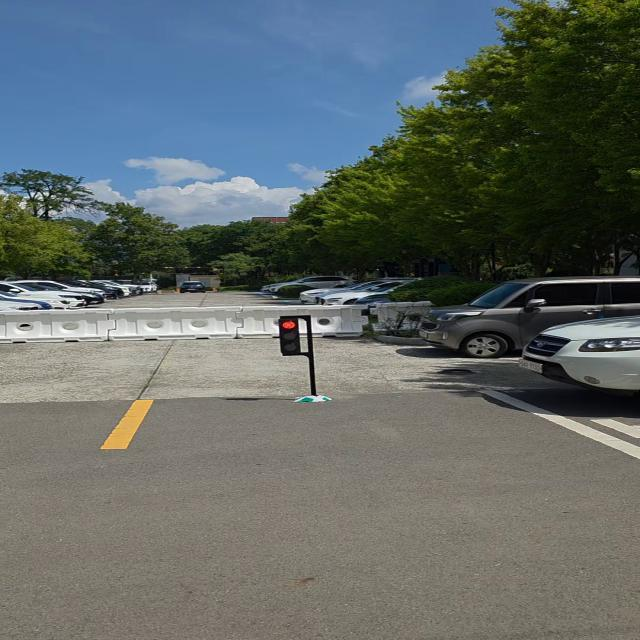red: (275, 314, 304, 359)
